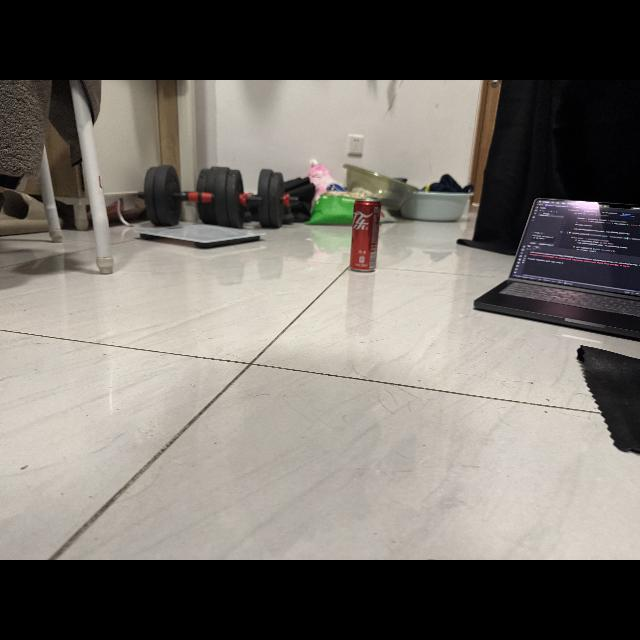Cola: (344, 195, 386, 278)
